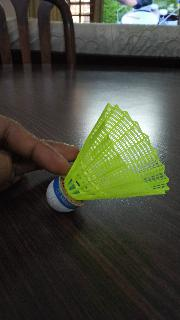shuttlecock: (47, 105, 168, 212)
